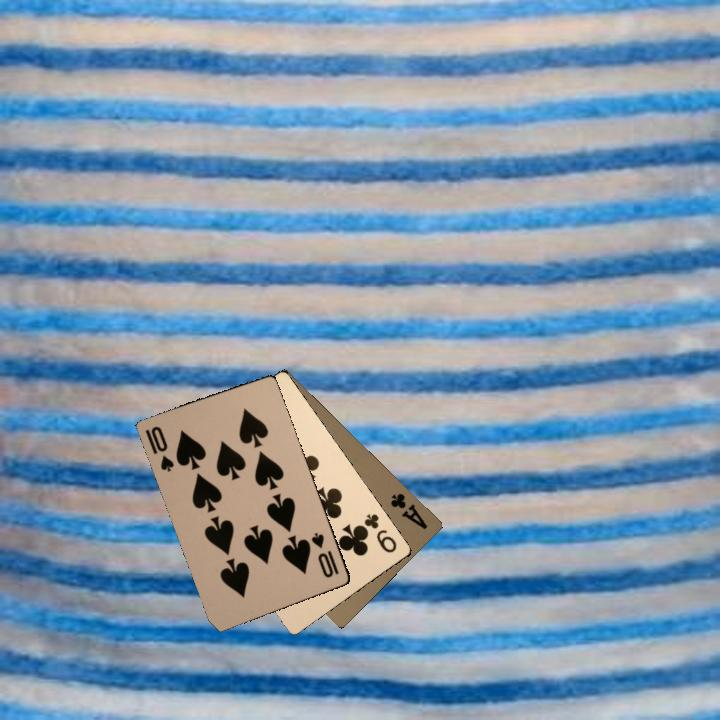10s: (141, 422, 177, 474), (307, 528, 341, 580)
9c: (358, 509, 399, 556)
Ac: (386, 489, 430, 532)
